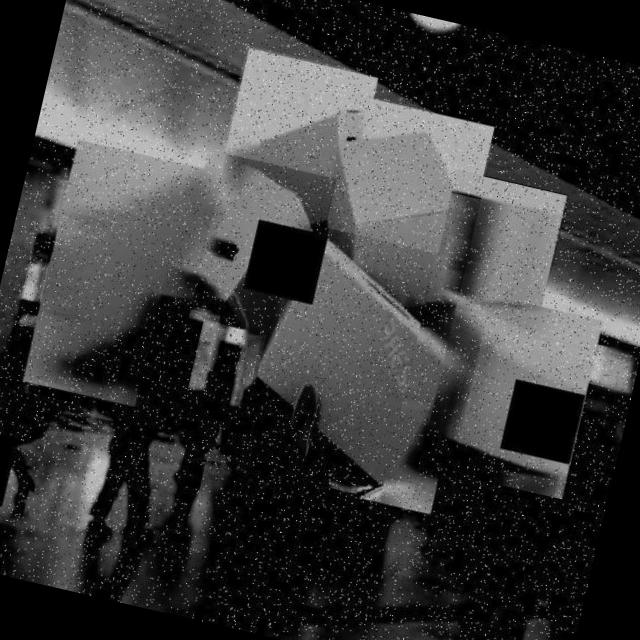box: (230, 218, 490, 520), (18, 136, 239, 422), (400, 281, 605, 504), (304, 91, 496, 327), (207, 45, 379, 248), (166, 148, 337, 345), (428, 169, 568, 315)
